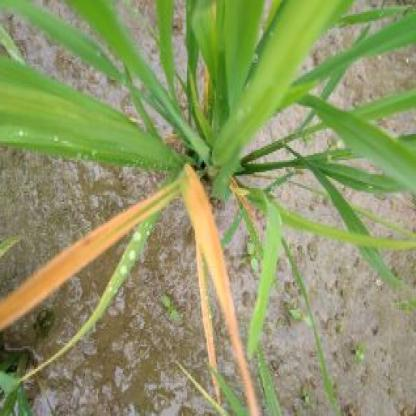Tungro: (182, 188, 254, 411)
